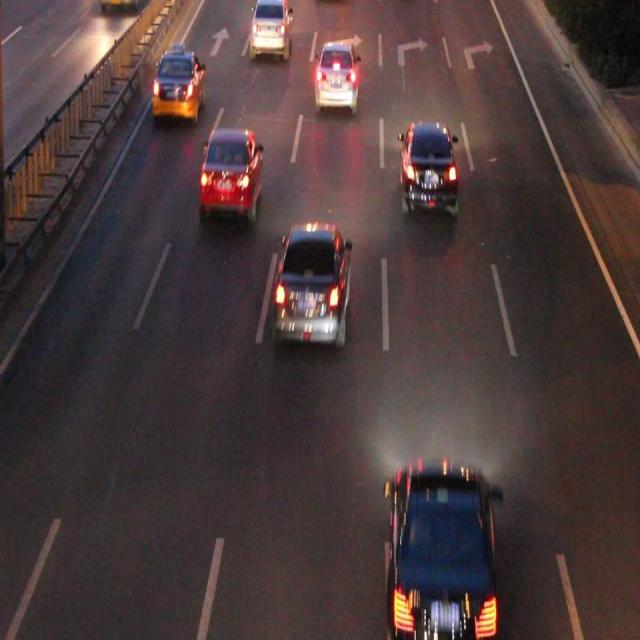car: (389, 464, 492, 620), (276, 225, 346, 339), (201, 130, 261, 212), (401, 124, 455, 210), (154, 54, 204, 115), (316, 44, 356, 105), (251, 1, 290, 52)
